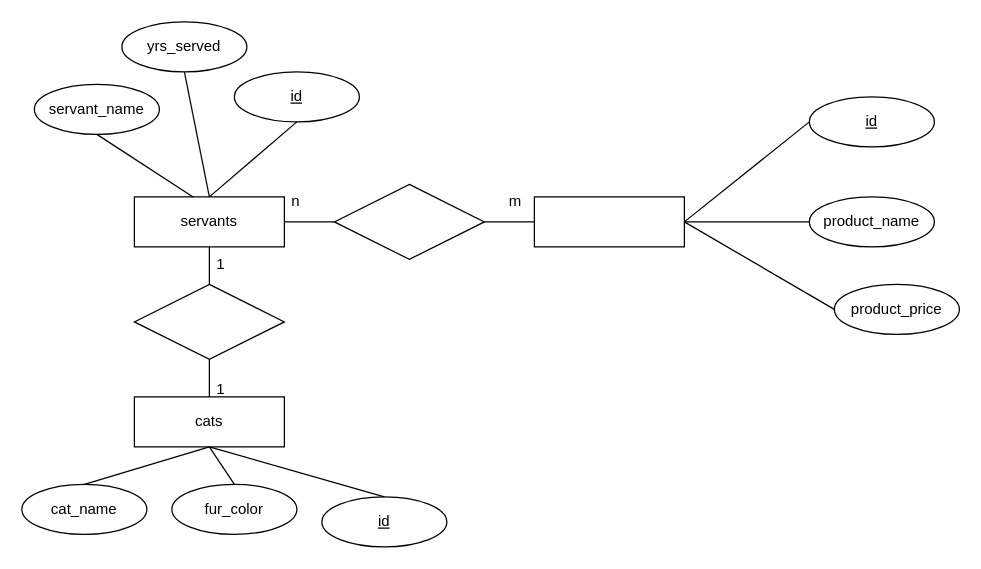
Some shapes in this 981 by 569 pixel diagram are drawn without their labels. The box of each missing label's shape, as (x1, y1, x2, y2) in pixels:
has a: (133, 283, 284, 359)
products: (533, 196, 684, 247)
purchases: (333, 183, 484, 259)
